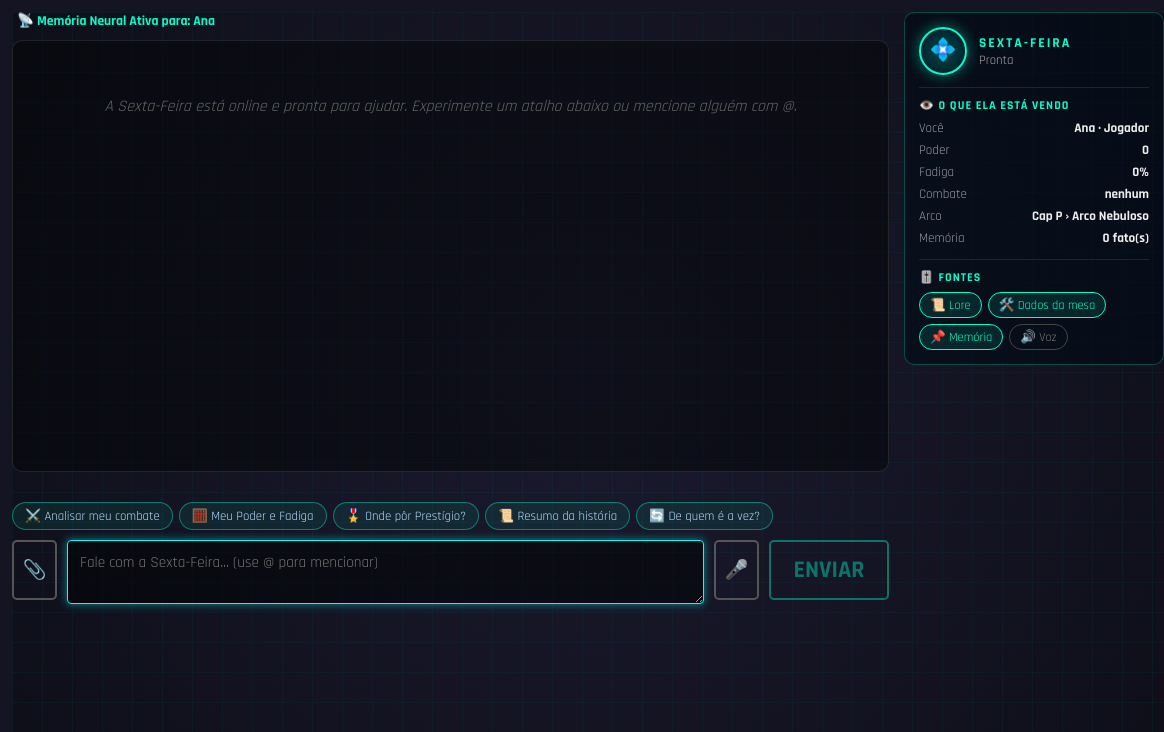
Test: CampoMensagem - @ menções › arco aparece com o nome do capitulo
Type "@Nebu" into the text box named "Mensagem para a Sexta-Feira" at (386, 572), box [67,540,704,604]
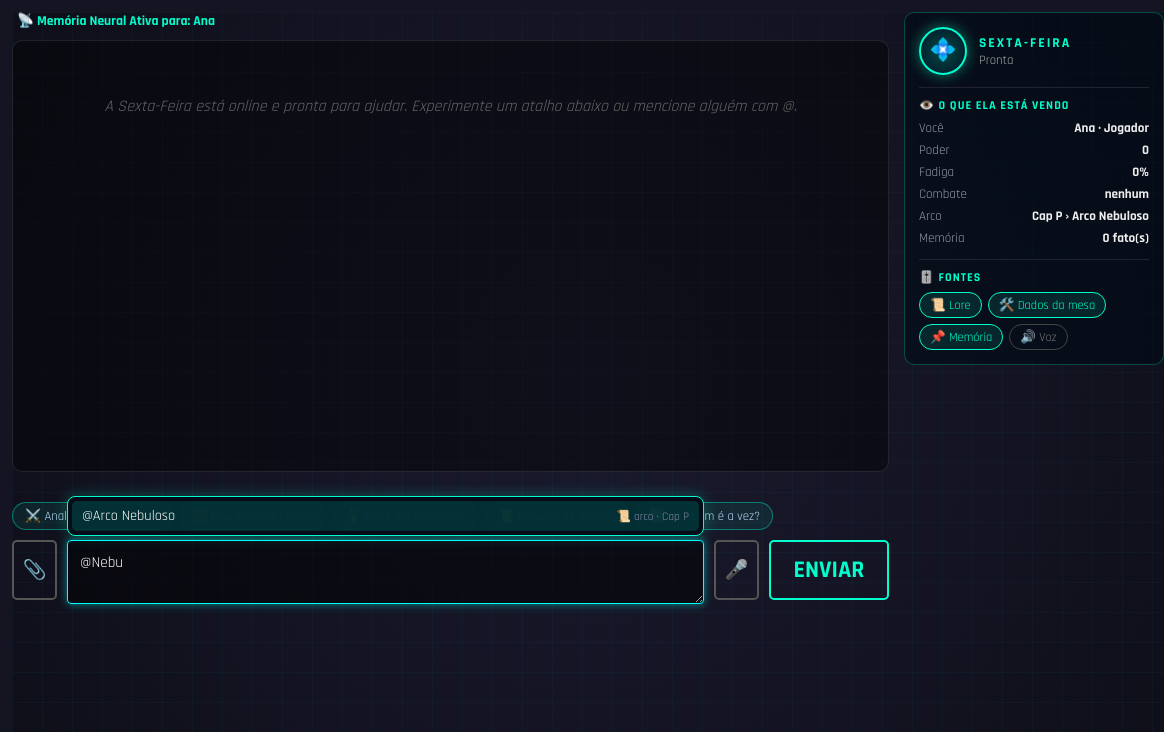
Check: the number of options is 1, box [72,501,699,531]
Check: the option shows "@Arco Nebuloso", box [72,501,699,531]
Check: the option shows "Cap P", box [72,501,699,531]
